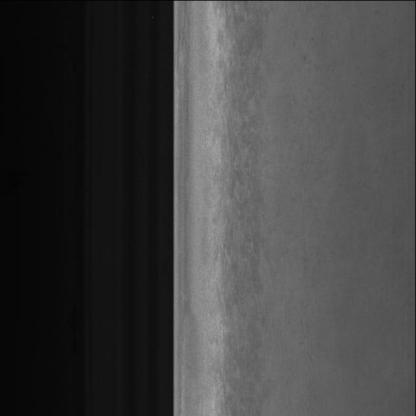silk_spot: (212, 32, 279, 373)
